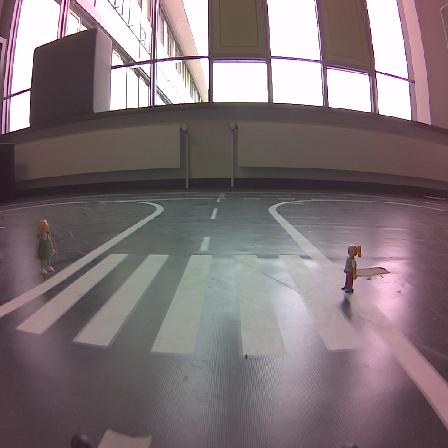CHILD: (342, 245, 361, 292)
PERSON: (35, 220, 54, 274)
